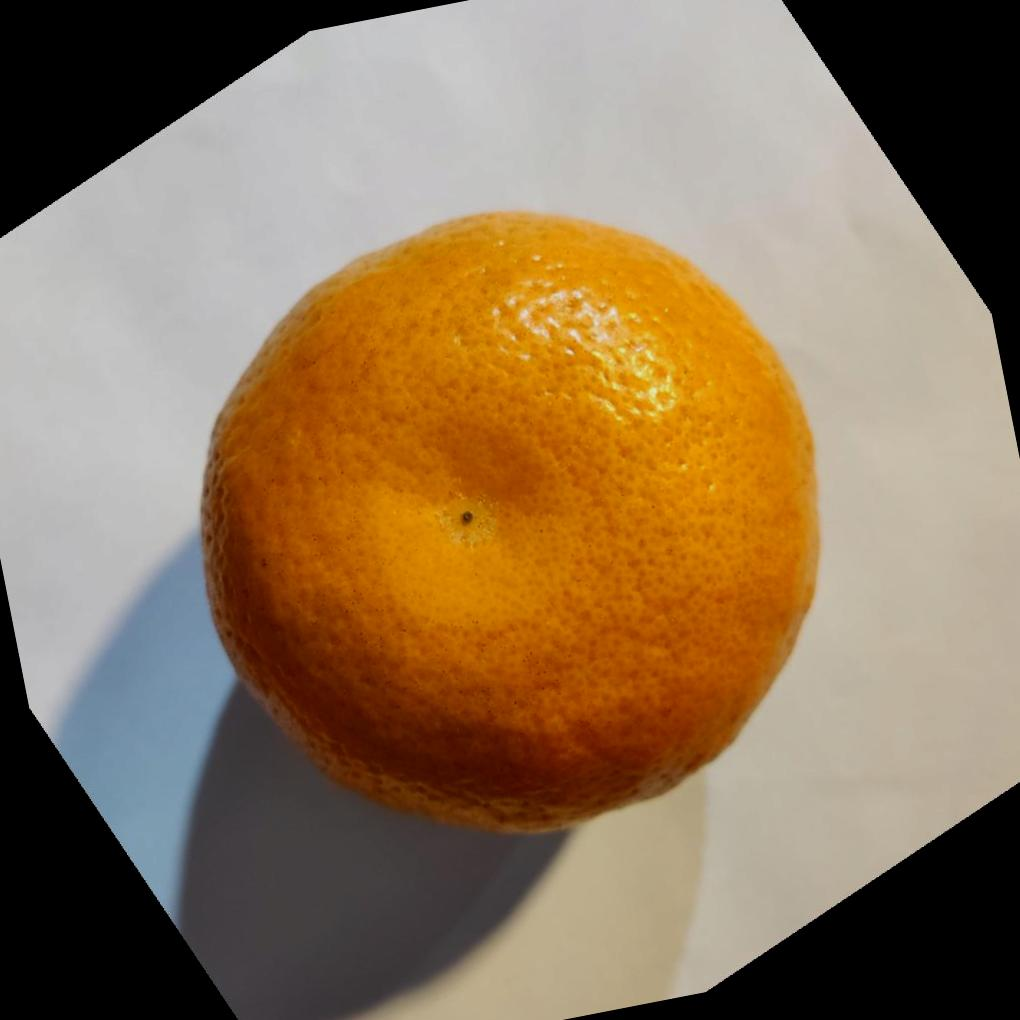FreshGuava: (200, 206, 826, 836)
